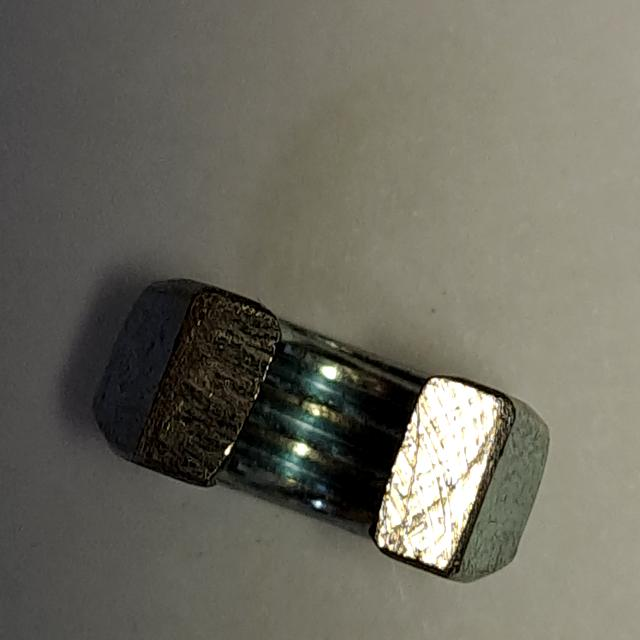Side-Fracture: (70, 256, 570, 611)
